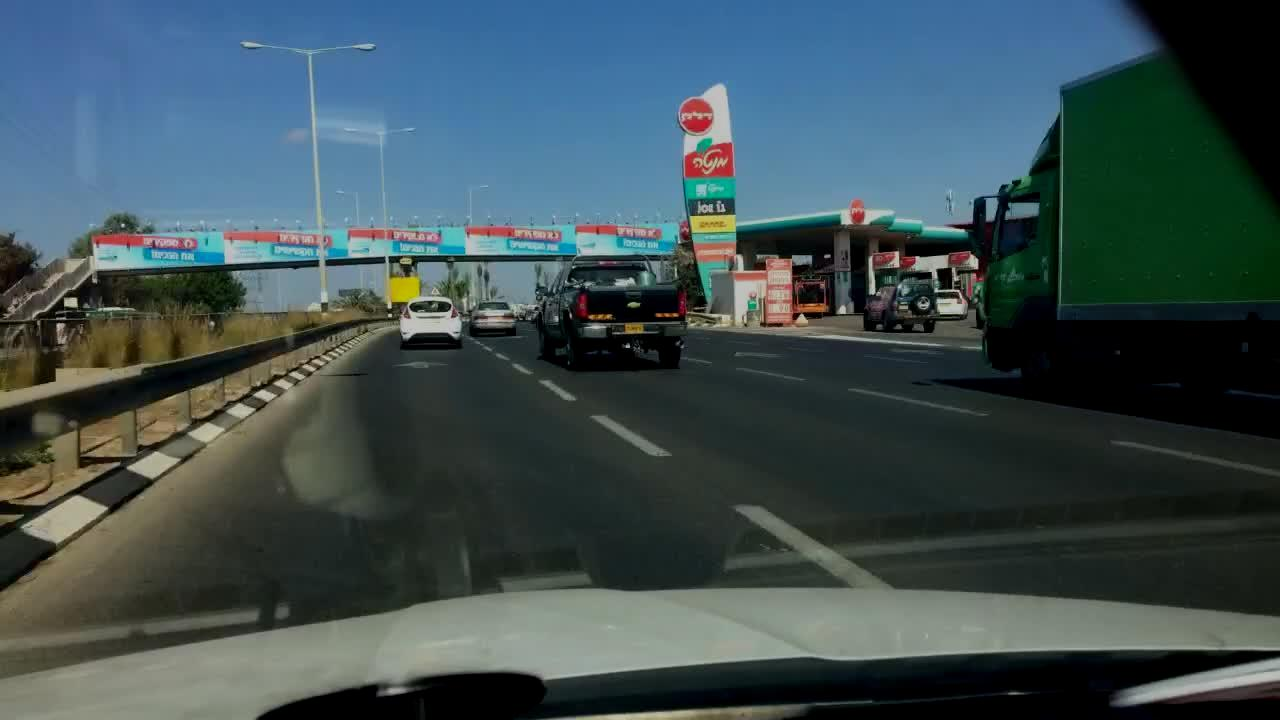chevrolet: (621, 300, 646, 310)
